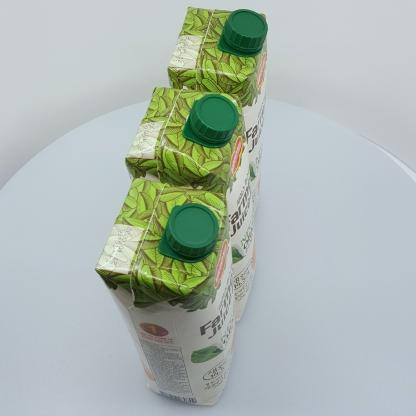------------1L: (94, 178, 236, 406)
